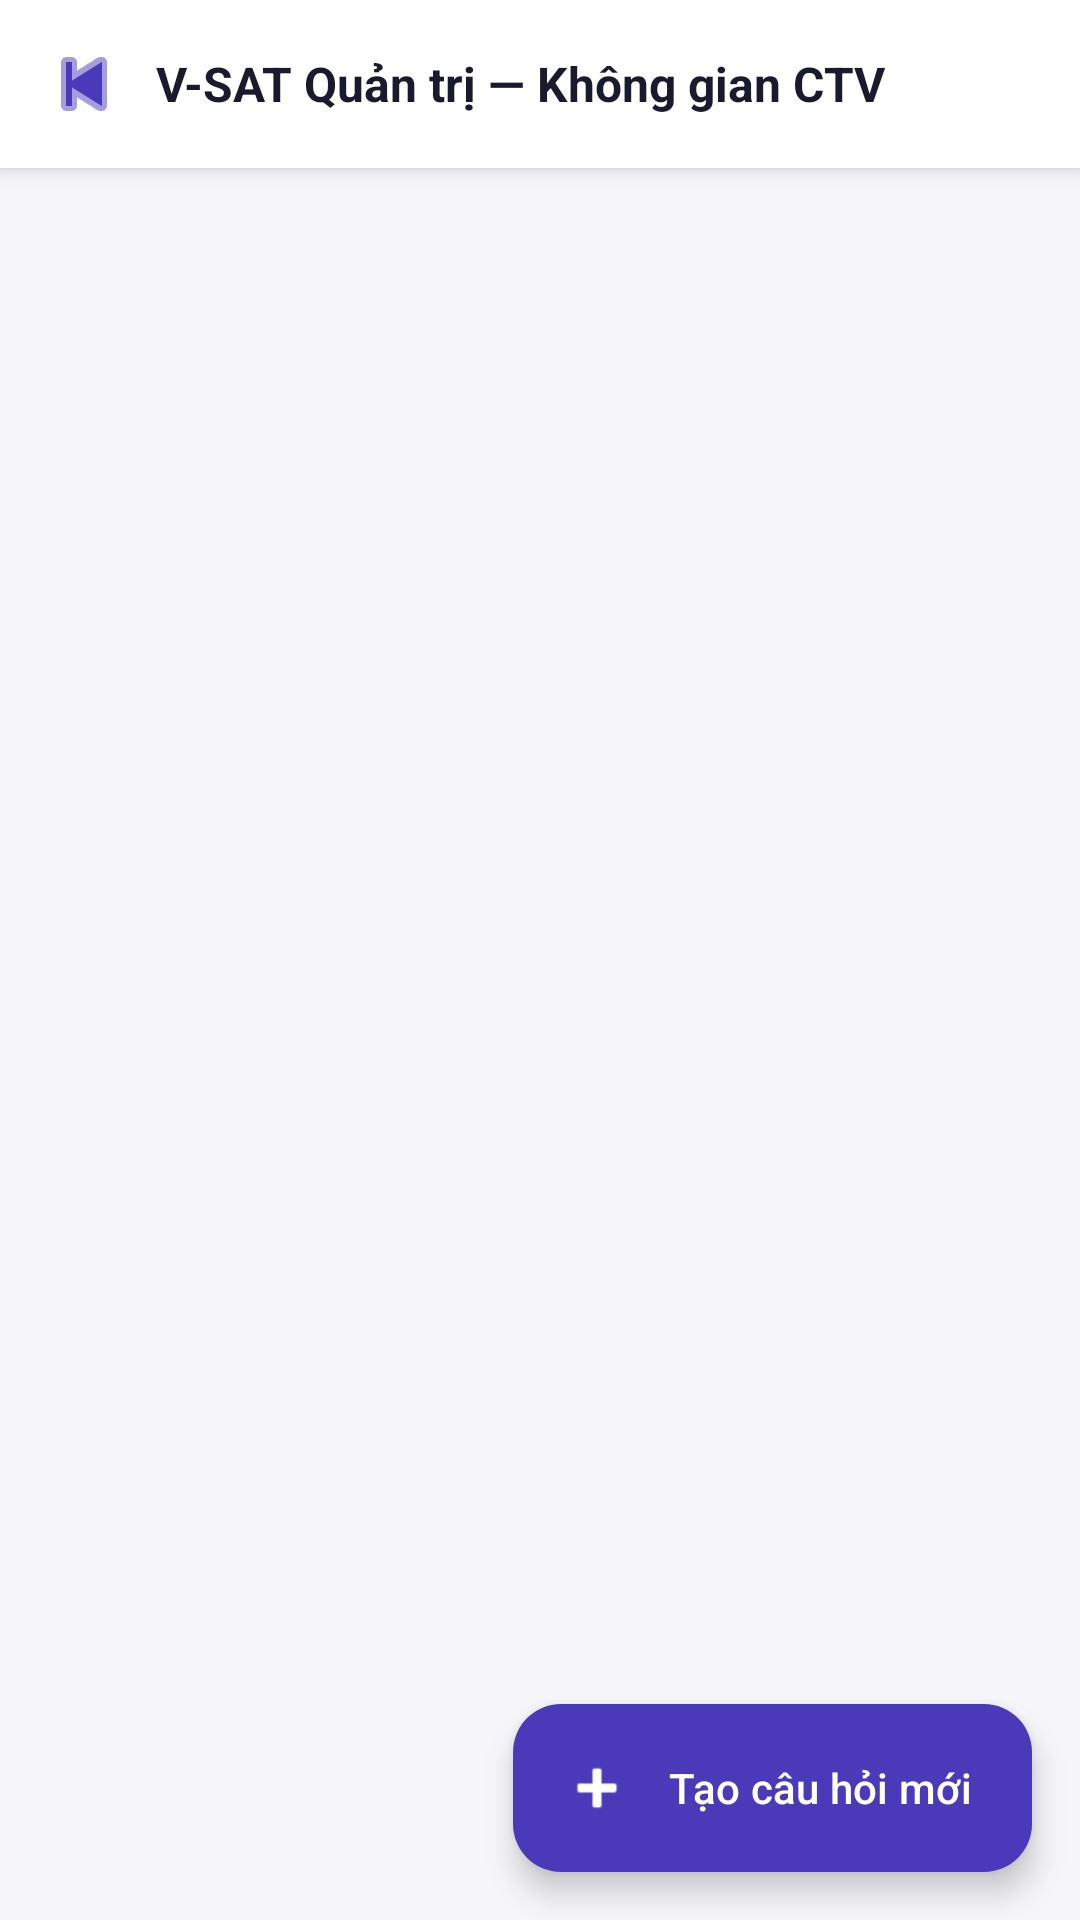

Named icons in this screenshot (1080*1920) and their centers, (x=x, y=y):
Quay lại: (x=84, y=84)
